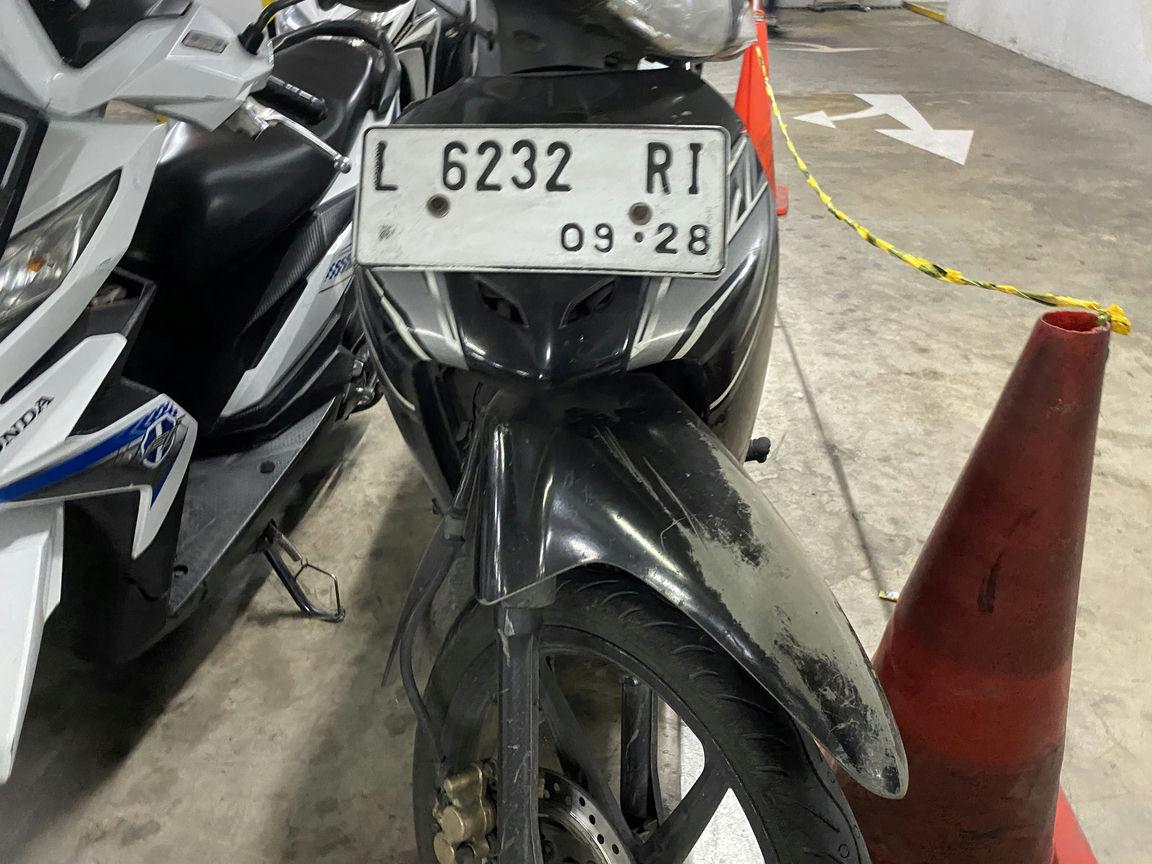plat: (353, 126, 729, 277)
